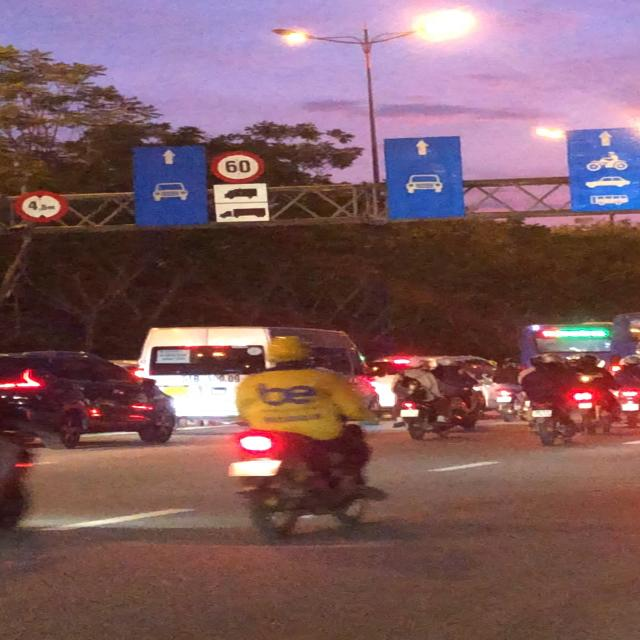Bien bao han che chieu cao: (12, 189, 72, 228)
Bien bao toc do toi da cho phep: (206, 147, 272, 183)
